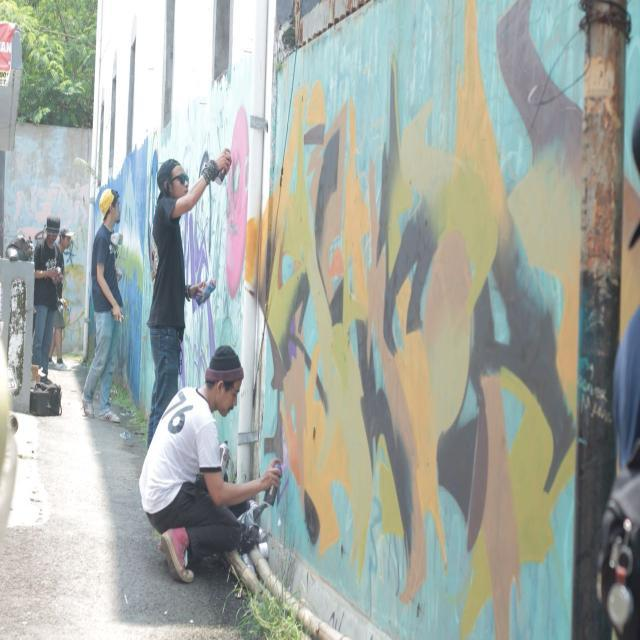-: (245, 78, 640, 640), (222, 102, 250, 291), (182, 210, 216, 358), (111, 230, 148, 290)
